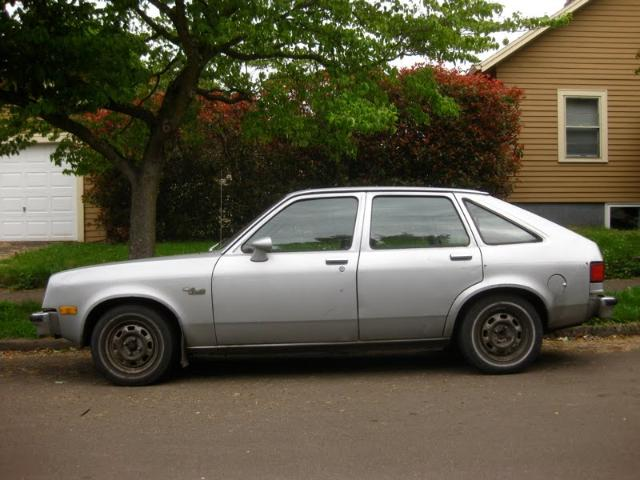chevette-1983: (31, 186, 616, 386)
